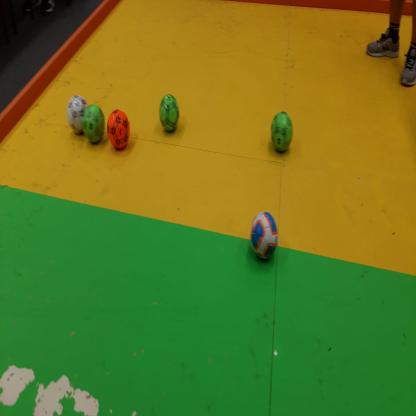ball: (250, 212, 280, 261), (271, 111, 294, 153), (108, 110, 130, 150), (83, 105, 104, 144), (160, 94, 179, 134), (67, 93, 84, 131)
